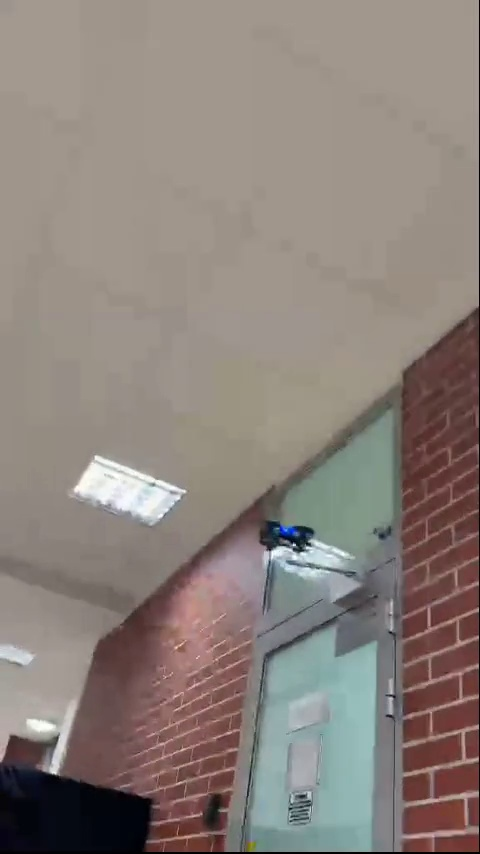drone: (260, 518, 313, 553)
